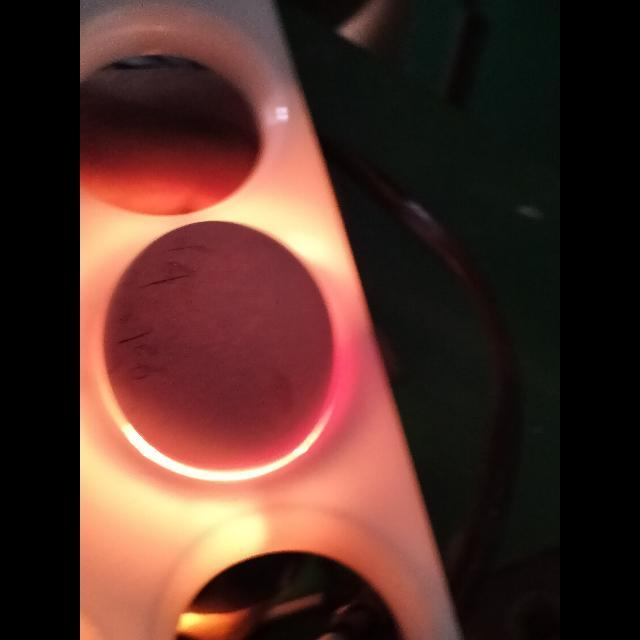B - Fair: (110, 223, 332, 465)
